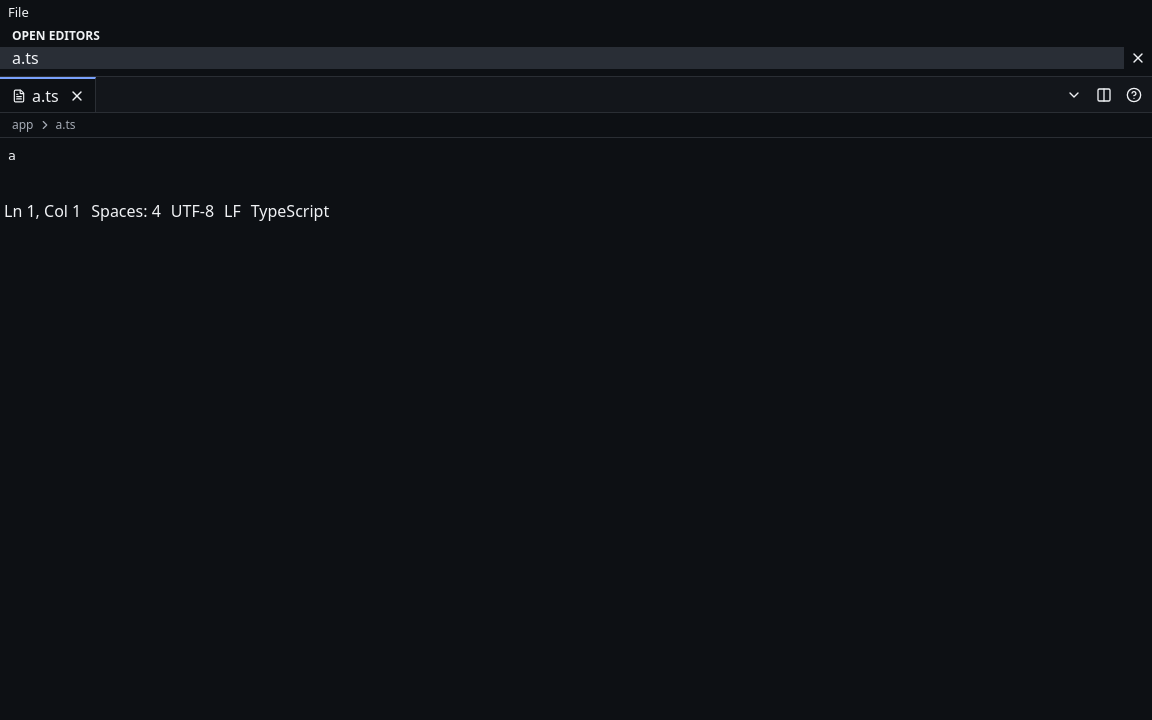
it: the help of the editor — plan 07, B-41 › opens from the strip, listing the shortcuts of the registry (S-264, S-265)
Click the button named "Help for the editor" at (1134, 94), box [1120, 80, 1148, 108]
(page scrolled)
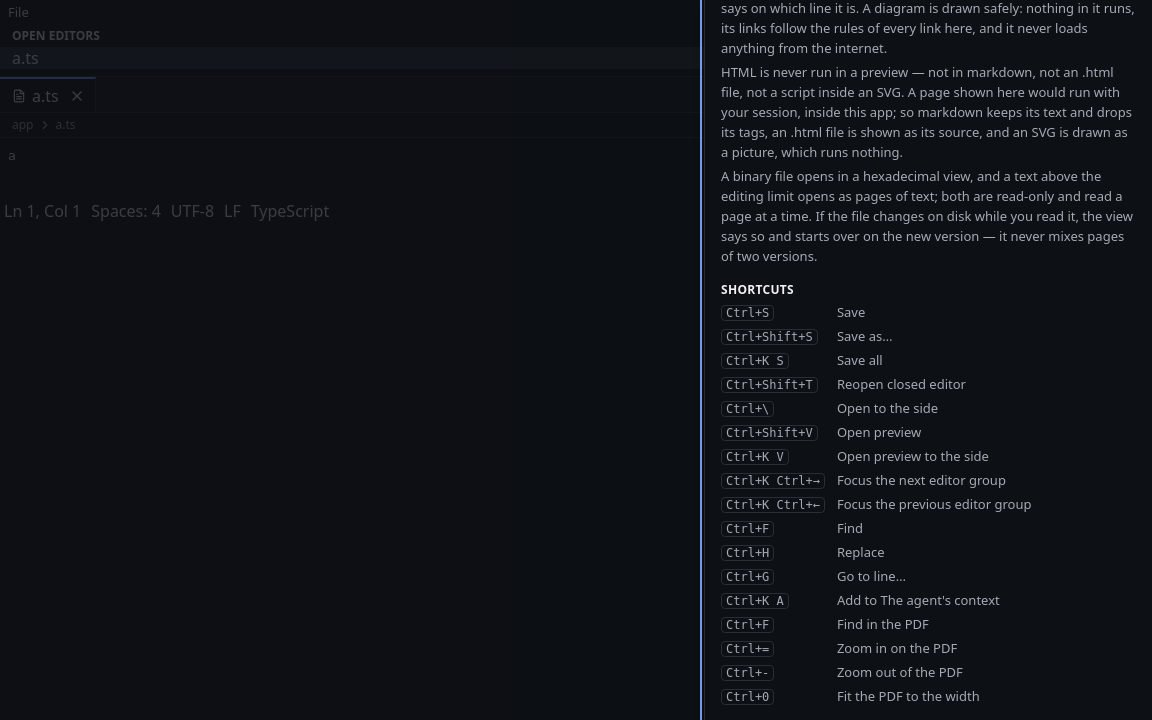
Press Escape
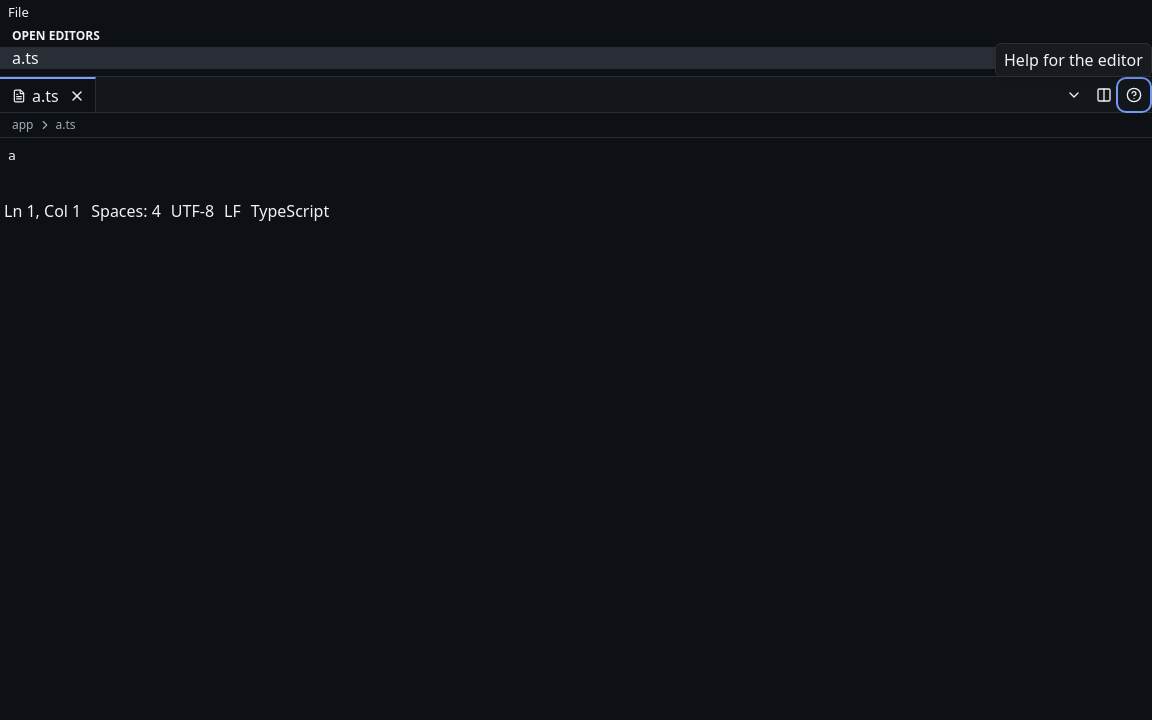
Expected: the dialog is gone
